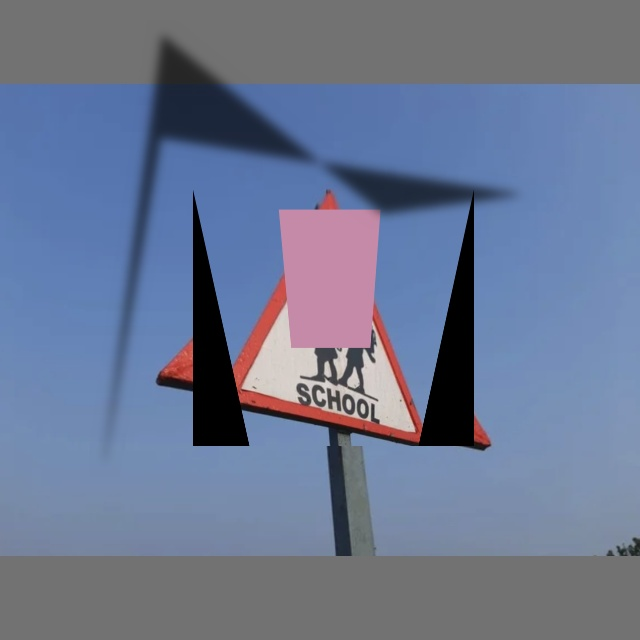School_Ahead: (193, 189, 474, 446)
